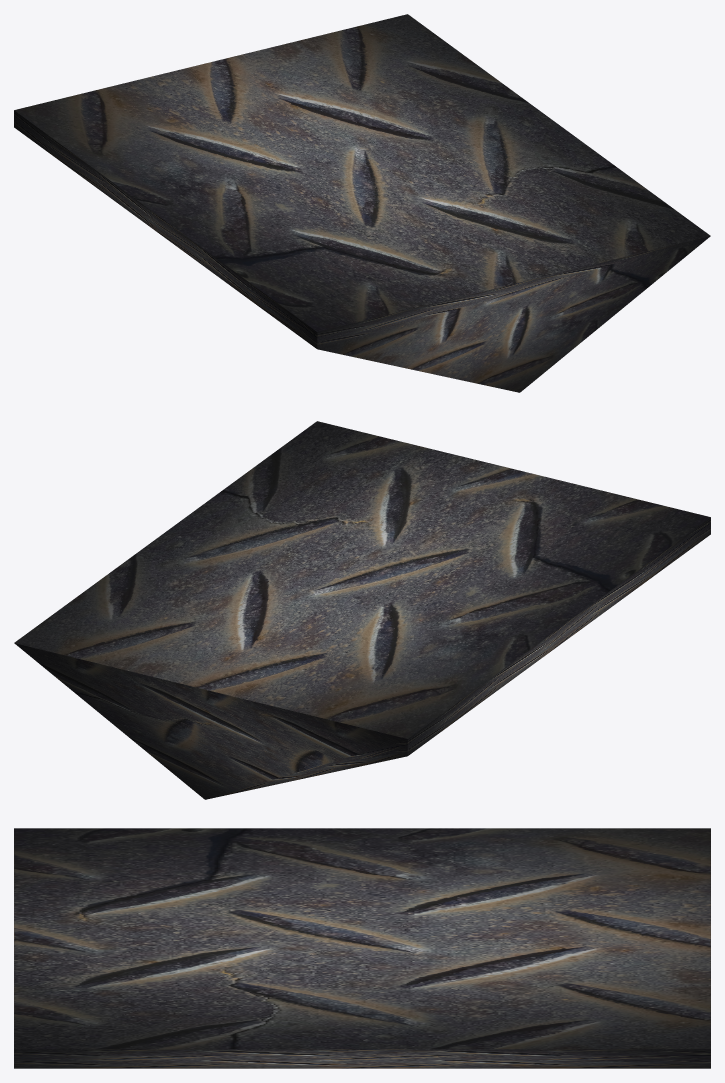
The model's file is moveFloor.FBX.
The picture shows the model from 3 angles, top to bottom: view 1: azimuth 30°, elevation 25°; view 2: azimuth 150°, elevation 25°; view 3: azimuth 270°, elevation 25°; orthographic projection. The views are drawn at different scales.
Parts seen in each view (by area): view 1: Box001; view 2: Box001; view 3: Box001.
Part boxes in pixels (<box>): Box001: <box>14,14,710,392</box>; Box001: <box>14,421,710,799</box>; Box001: <box>14,828,710,1068</box>.
Bounding box in the file's own units: 1200 × 1600 × 321.
1 material, 1 textured.
